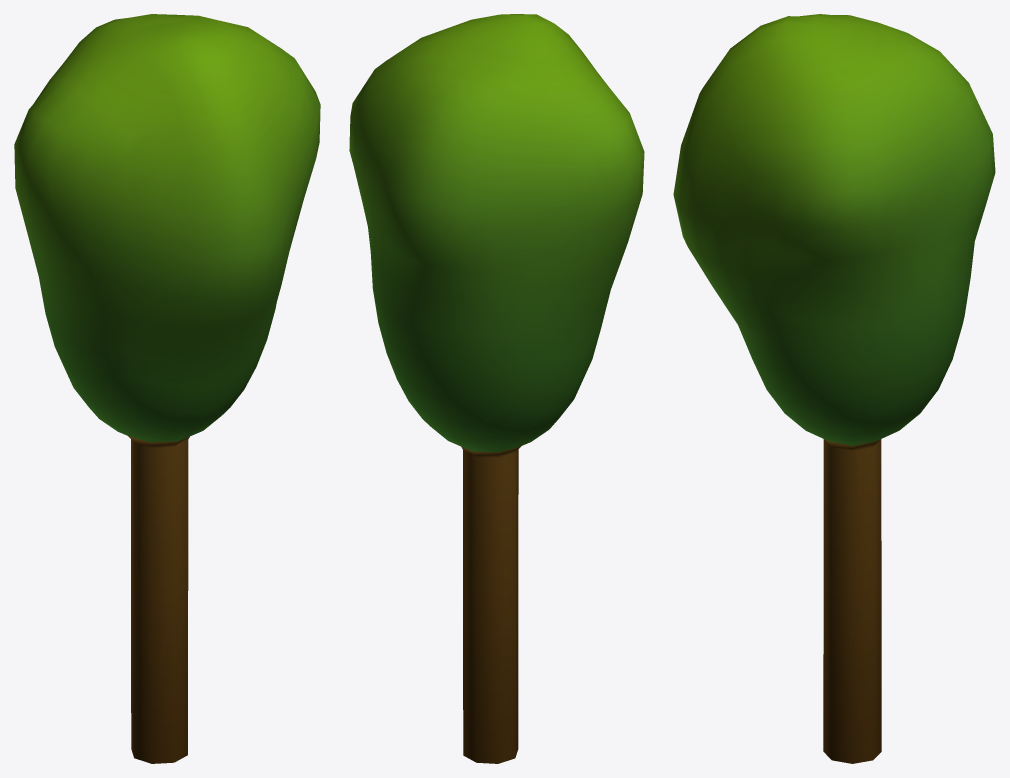
The model's file is tree_04.fbx.
3 views of the same model, side by side, from view 1: azimuth 30°, elevation 25°; view 2: azimuth 150°, elevation 25°; view 3: azimuth 270°, elevation 25° (orthographic). The views are drawn at different scales.
Parts seen in each view (by area): view 1: tree; view 2: tree; view 3: tree.
Boxes of the visible parts, x1=… form: tree: x1=14, y1=14, x2=320, y2=763; tree: x1=349, y1=14, x2=644, y2=763; tree: x1=673, y1=14, x2=995, y2=763.
Size of the model in its own units: 7.04 by 17.29 by 6.92.
1 material, 1 textured.
